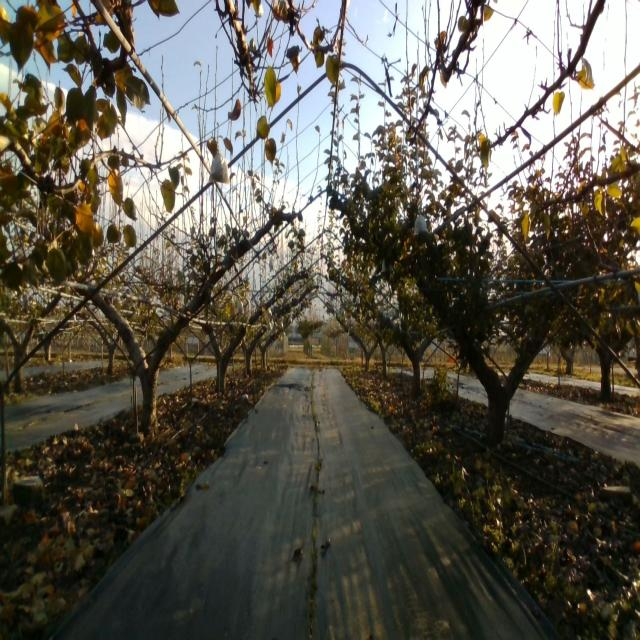pearbags: (209, 148, 230, 184), (413, 213, 429, 235)
